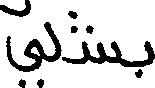X: (0, 0, 40, 87), (83, 20, 121, 69), (46, 17, 62, 66), (146, 36, 154, 69)
